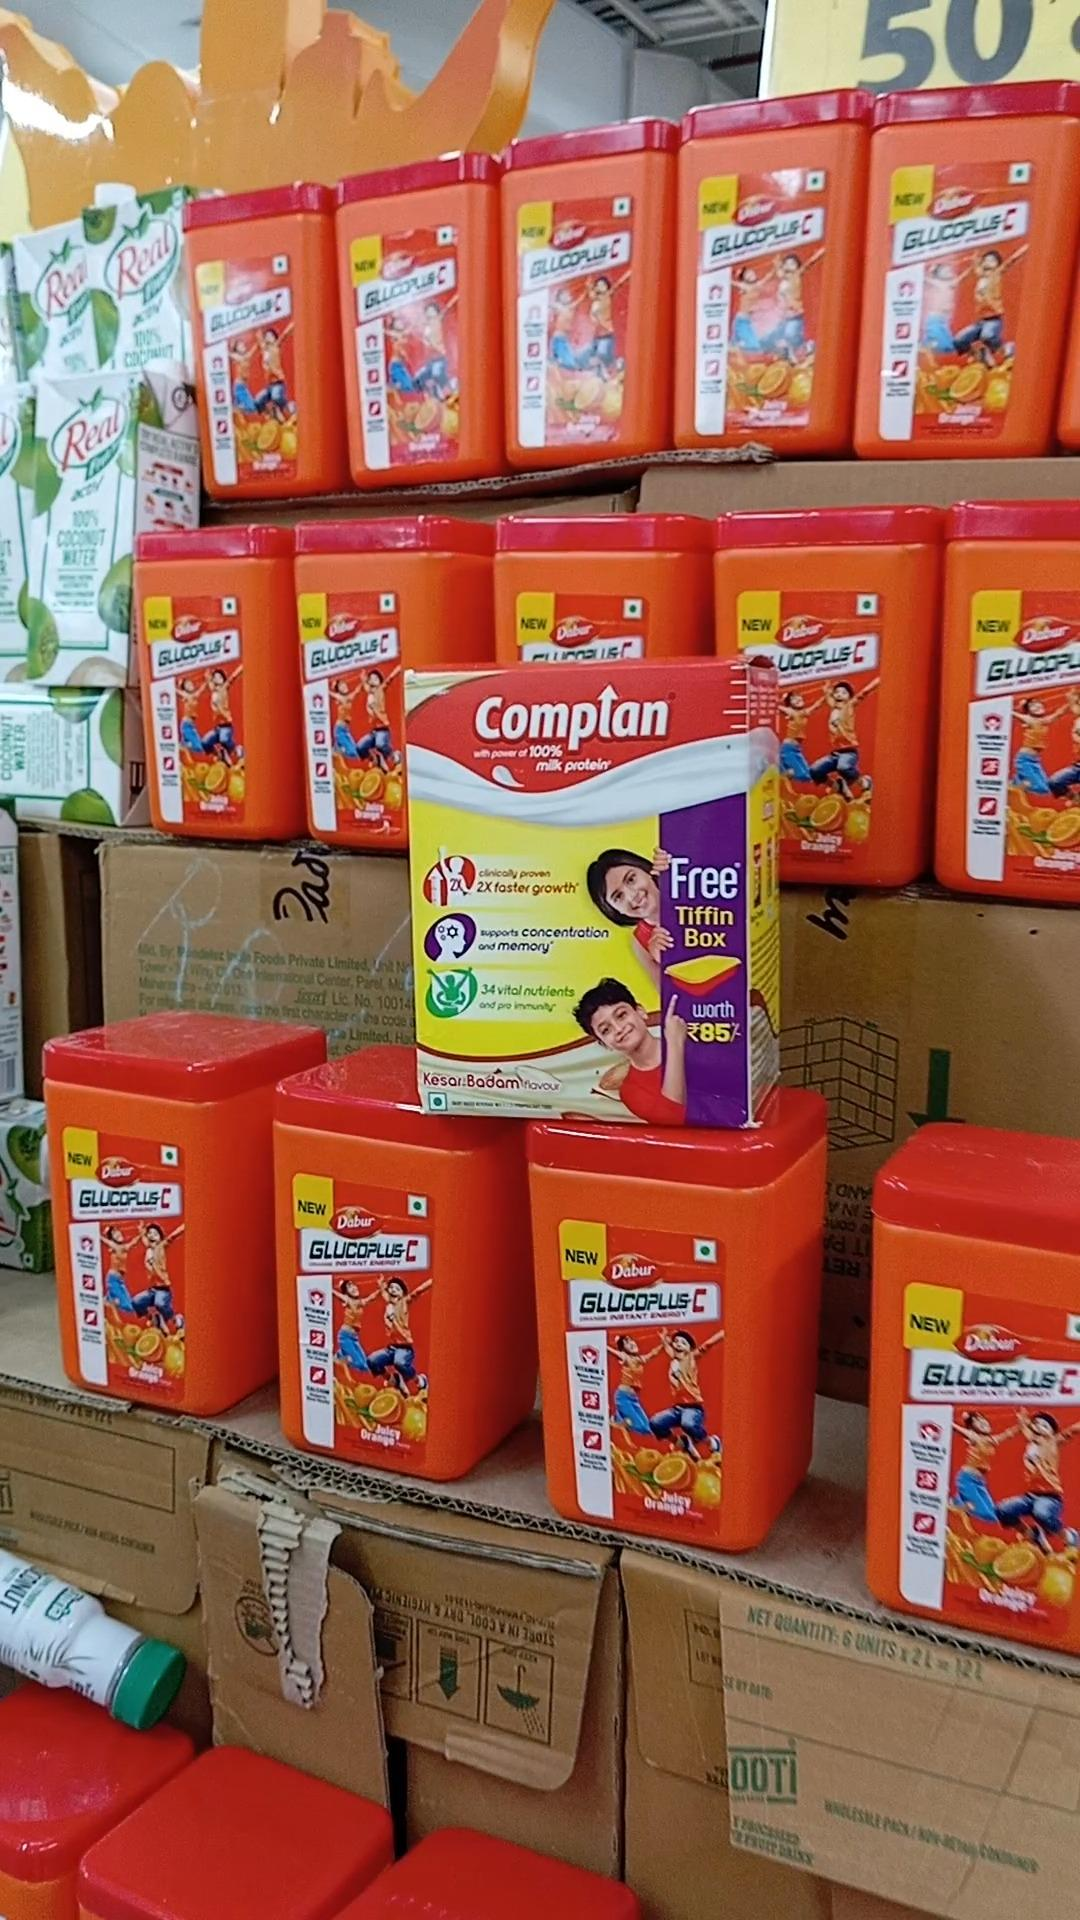COMPLAN_KESAR_BADAM_500_GMS_PACK: (405, 670, 746, 1130)
